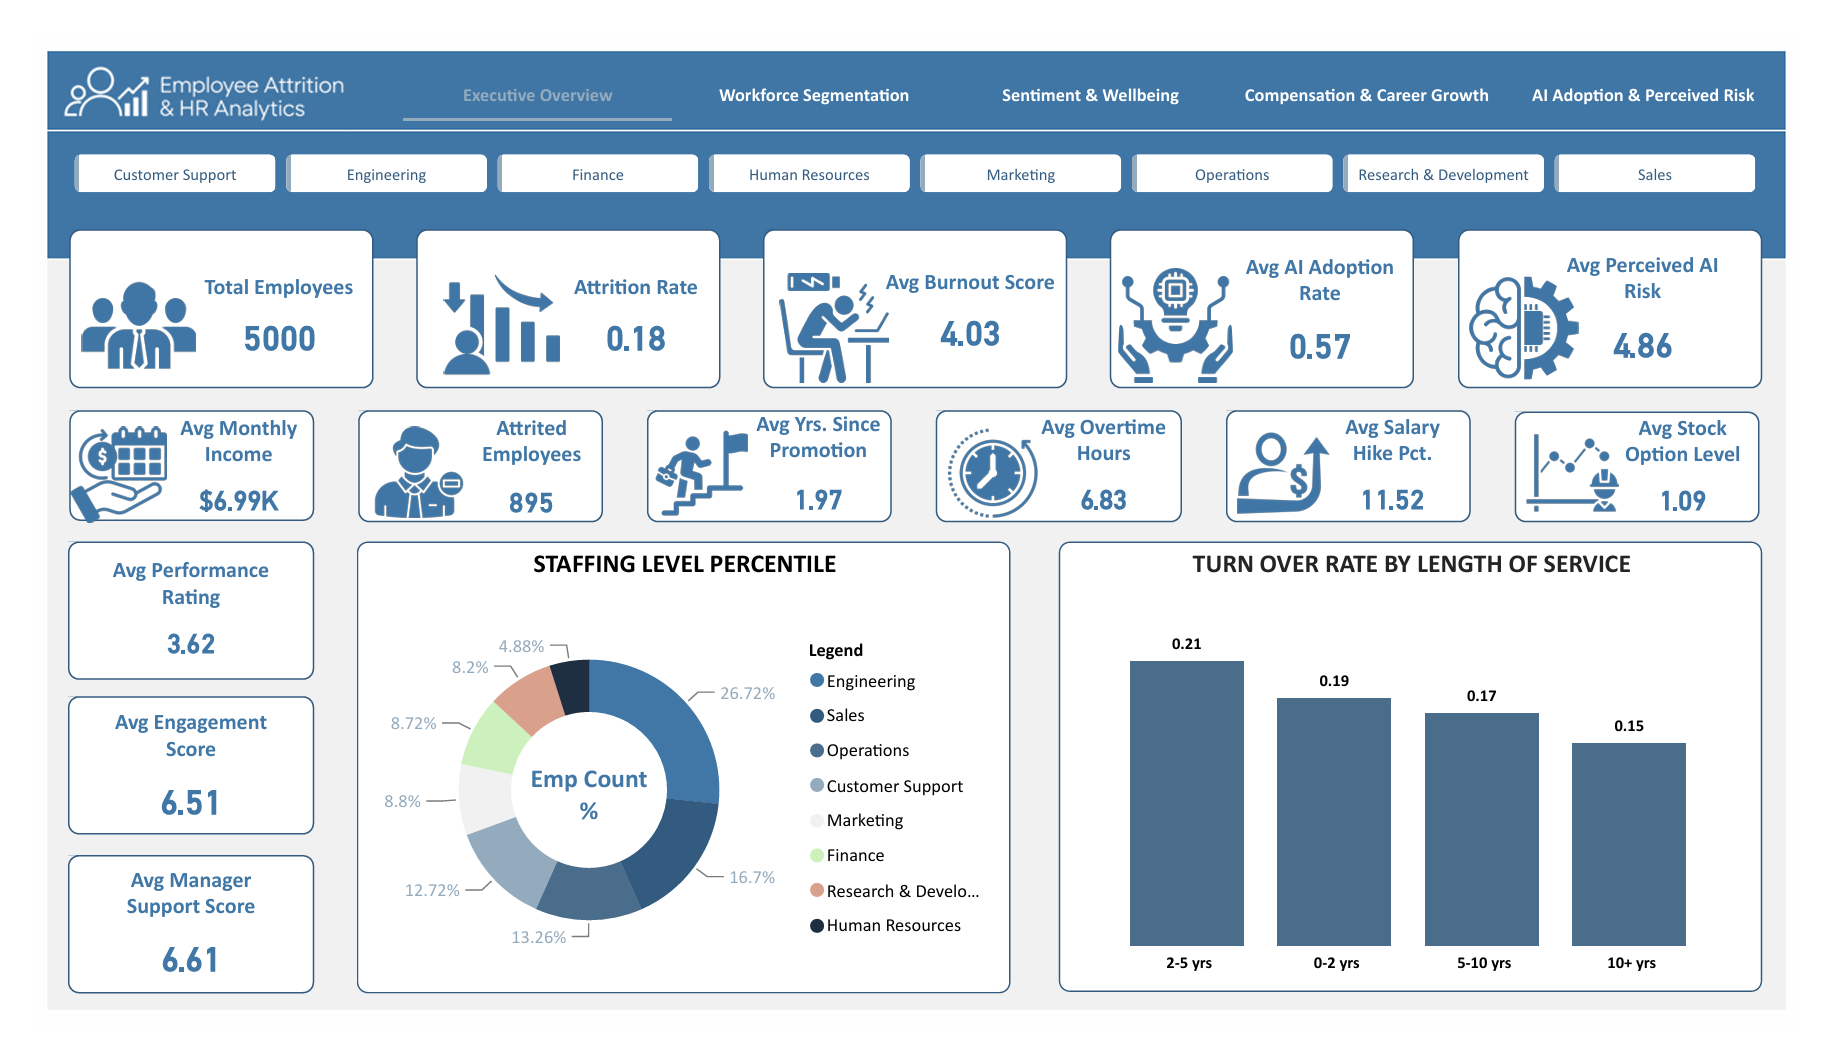

The page's visual inventory and layout, read from the dashboard file:
{"tool":"powerbi","page":{"name":"Executive Overview","canvas":[1280,720],"ordinal":1},"visuals":[{"type":"shape","box":[26.2,367.5,177.5,100],"z":0},{"type":"shape","box":[26.2,480,177.5,100],"z":1000},{"type":"shape","box":[26.2,595,177.5,100],"z":2000},{"type":"shape","box":[26.5,272.7,177.3,80.8],"z":3000},{"type":"shape","box":[235.8,273.1,177.3,80.8],"z":4000},{"type":"shape","box":[445,273.1,177.3,80.8],"z":5000},{"type":"shape","box":[654.3,273.1,177.3,80.8],"z":6000},{"type":"shape","box":[863.5,273.1,177.3,80.8],"z":7000},{"type":"shape","box":[1072.8,273.6,177.3,80.8],"z":8000},{"type":"shape","box":[26.5,142,220,115],"z":9000},{"type":"card","title":"Total Employees","fields":{"Values":["measures_table.Total Employees"]},"box":[103.8,173.7,149.6,62.7],"z":10000},{"type":"donutChart","title":"STAFFING LEVEL PERCENTILE","fields":{"Category":["vw_dashboard_employees.department"],"Y":["measures_table.Total Employees"]},"box":[235.3,368,472.5,327.5],"z":11000},{"type":"clusteredColumnChart","title":"TURN OVER RATE BY LENGTH OF SERVICE","fields":{"Category":["vw_dashboard_employees.tenure_band"],"Y":["measures_table.Attrition Rate"]},"box":[743.2,368,509.1,325.7],"z":12000},{"type":"card","title":"Avg Monthly Income","fields":{"Values":["measures_table.Avg Monthly Income"]},"box":[95.3,276.3,108.6,77.2],"z":13000},{"type":"pageNavigator","box":[268.6,24.3,995.7,40],"z":14000},{"type":"advancedSlicerVisual","fields":{"Values":["vw_dashboard_employees.department"]},"box":[26.2,82.5,1226.2,37.5],"z":15000},{"type":"image","box":[26.5,170.1,101.3,83.2],"z":16000},{"type":"shape","box":[277.8,142,220,115],"z":17000},{"type":"image","box":[277.5,168.9,125.5,84.5],"z":18000},{"type":"shape","box":[529,142,220,115],"z":19000},{"type":"shape","box":[780.3,142,220,115],"z":20000},{"type":"shape","box":[1031.5,142,220,115],"z":21000},{"type":"card","title":"Attrition Rate","fields":{"Values":["measures_table.Attrition Rate"]},"box":[361.9,173.7,149.6,62.7],"z":22000},{"type":"card","title":"Avg Burnout Score","fields":{"Values":["measures_table.Avg Burnout Score"]},"box":[609.3,170.1,139.9,62.7],"z":23000},{"type":"image","box":[521.2,173.7,118.2,79.6],"z":24000},{"type":"card","title":"Avg AI Adoption Rate","fields":{"Values":["measures_table.AI Tool Adoption Rate"]},"box":[863.8,158.8,136.2,85],"z":25000},{"type":"image","box":[775.7,170.1,103.8,83.2],"z":26000},{"type":"card","title":"Avg Perceived AI Risk","fields":{"Values":["measures_table.Avg Perceived AI Risk"]},"box":[1090.6,158.5,149.7,84.9],"z":27000},{"type":"image","box":[1019.4,173.7,120.6,79.6],"z":28000},{"type":"image","box":[21.7,284.7,82,70],"z":29000},{"type":"card","title":"Attrited Employees","fields":{"Values":["measures_table.Attrited Employees"]},"box":[307.1,276.5,108.9,78.9],"z":30000},{"type":"image","box":[235.3,284.7,89.3,66.4],"z":31000},{"type":"card","title":"Avg Yrs. Since Promotion","fields":{"Values":["measures_table.Avg Years Since Promotion"]},"box":[515,273.3,107.5,80.8],"z":32000},{"type":"image","box":[437.9,284.7,91.7,67.6],"z":33000},{"type":"card","title":"Avg Overtime Hours","fields":{"Values":["measures_table.Avg Overtime Hours"]},"box":[721.5,275.3,108.6,77.2],"z":34000},{"type":"image","box":[649.1,284.7,94.1,67.6],"z":35000},{"type":"card","title":"Avg Salary Hike Pct.","fields":{"Values":["measures_table.Avg Salary Hike Pct"]},"box":[930.5,275.3,108.6,77.2],"z":36000},{"type":"image","box":[857.8,284.7,94.1,67.6],"z":37000},{"type":"card","title":"Avg Stock Option Level","fields":{"Values":["measures_table.Avg Stock Option Level"]},"box":[1140.5,276.3,108.6,77.2],"z":38000},{"type":"image","box":[1067.7,284.7,94.1,68.8],"z":39000},{"type":"card","title":"Avg Performance Rating","fields":{"Values":["measures_table.Avg Performance Rating"]},"box":[48.3,379.2,133.8,77.5],"z":40000},{"type":"card","title":"Avg Engagement Score","fields":{"Values":["measures_table.Avg Engagement Score"]},"box":[40,489.2,149.6,84.5],"z":41000},{"type":"card","title":"Avg Manager Support Score","fields":{"Values":["measures_table.Avg Manager Support Score"]},"box":[40,603.3,149.6,84.5],"z":42000},{"type":"textbox","box":[354.2,523.3,98.2,56.4],"z":43500}]}

Visuals, with their boxes in screenshot pixels (x1, y1, x2, y2), scaled from the page's 1280x720 canvas onto the 1834x1060 screenshot:
shape: region(38, 541, 292, 688)
shape: region(38, 707, 292, 854)
shape: region(38, 876, 292, 1023)
shape: region(38, 401, 292, 520)
shape: region(338, 402, 592, 521)
shape: region(638, 402, 892, 521)
shape: region(937, 402, 1192, 521)
shape: region(1237, 402, 1491, 521)
shape: region(1537, 403, 1791, 522)
shape: region(38, 209, 353, 378)
"Total Employees" card: region(149, 256, 363, 348)
"STAFFING LEVEL PERCENTILE" donutChart: region(337, 542, 1014, 1024)
"TURN OVER RATE BY LENGTH OF SERVICE" clusteredColumnChart: region(1065, 542, 1794, 1021)
"Avg Monthly Income" card: region(137, 407, 292, 520)
pageNavigator: region(385, 36, 1812, 95)
advancedSlicerVisual - vw_dashboard_employees.department: region(38, 121, 1794, 177)
image: region(38, 250, 183, 373)
shape: region(398, 209, 713, 378)
image: region(398, 249, 577, 373)
shape: region(758, 209, 1073, 378)
shape: region(1118, 209, 1433, 378)
shape: region(1478, 209, 1793, 378)
"Attrition Rate" card: region(519, 256, 733, 348)
"Avg Burnout Score" card: region(873, 250, 1073, 343)
image: region(747, 256, 916, 373)
"Avg AI Adoption Rate" card: region(1238, 234, 1433, 359)
image: region(1111, 250, 1260, 373)
"Avg Perceived AI Risk" card: region(1563, 233, 1777, 358)
image: region(1461, 256, 1633, 373)
image: region(31, 419, 149, 522)
"Attrited Employees" card: region(440, 407, 596, 523)
image: region(337, 419, 465, 517)
"Avg Yrs. Since Promotion" card: region(738, 402, 892, 521)
image: region(627, 419, 759, 519)
"Avg Overtime Hours" card: region(1034, 405, 1189, 519)
image: region(930, 419, 1065, 519)
"Avg Salary Hike Pct." card: region(1333, 405, 1489, 519)
image: region(1229, 419, 1364, 519)
"Avg Stock Option Level" card: region(1634, 407, 1790, 520)
image: region(1530, 419, 1665, 520)
"Avg Performance Rating" card: region(69, 558, 261, 672)
"Avg Engagement Score" card: region(57, 720, 272, 845)
"Avg Manager Support Score" card: region(57, 888, 272, 1013)
textbox: region(508, 770, 648, 853)
